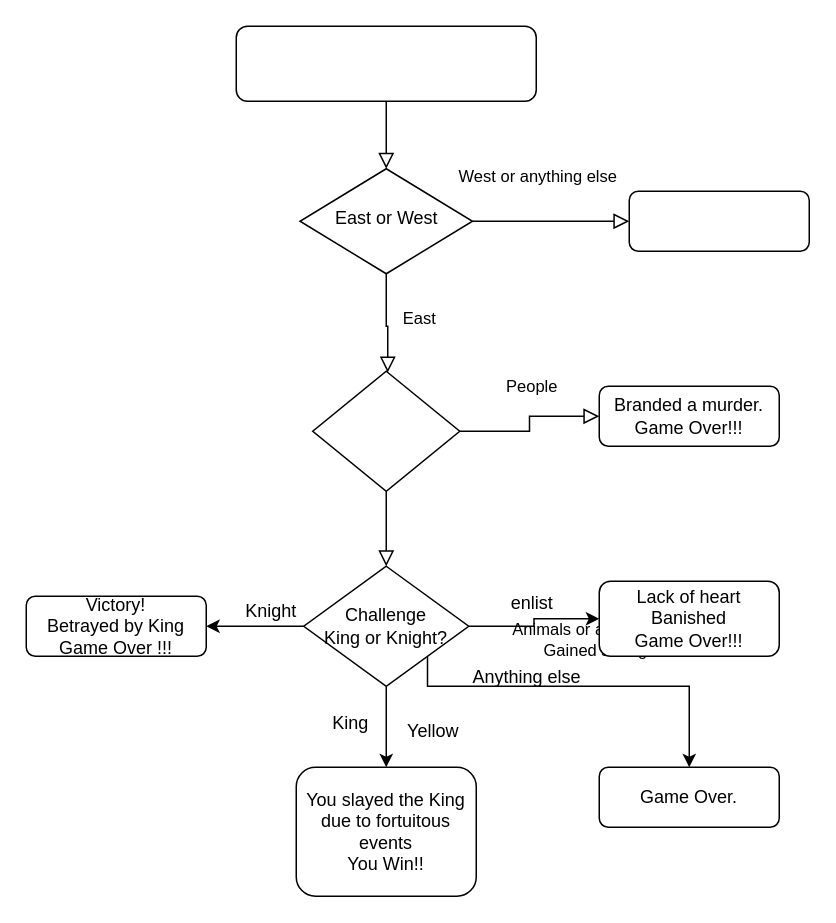
This 836x923 diagram has some shape labels left out. Each missing label, with the centre of its shape:
"animals or people" belongs at point (385, 430).
"killed by demons. Game Over!!!" belongs at point (718, 220).
"Welcome to Asura . Your mission in this new land is to get stronger and survive." belongs at point (385, 63).
